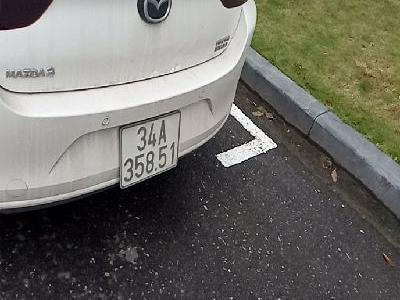car: (118, 109, 181, 191)
